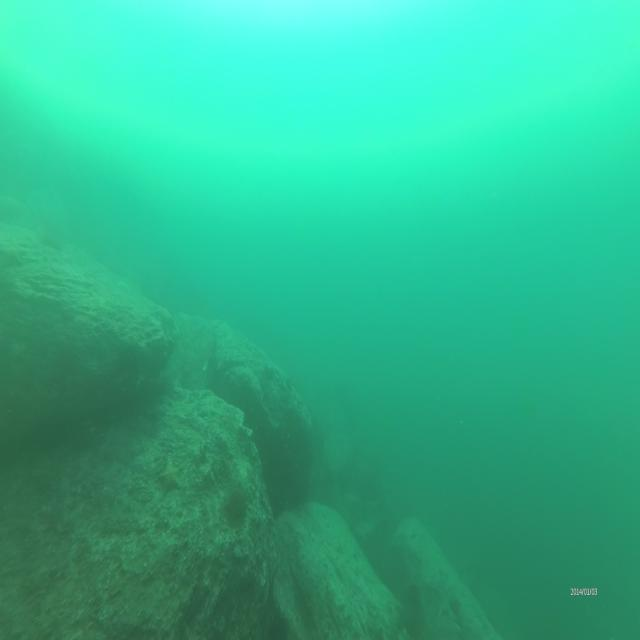echinus: (225, 484, 249, 531)
starfish: (154, 456, 183, 494)
